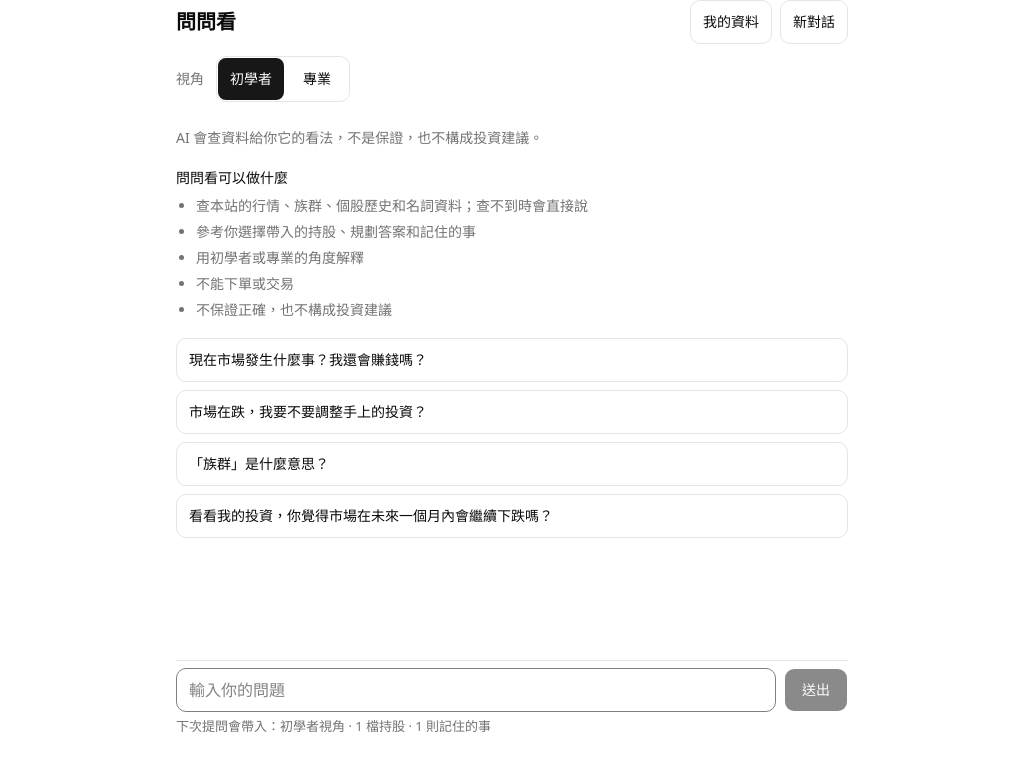
my-data sheet › labels the switch, every editor field and the close button
What coordinates should you click on to do the following:
click the button "我的資料"
I would click on:
 (731, 22)
Its box is x1=690 y1=0 x2=772 y2=44.
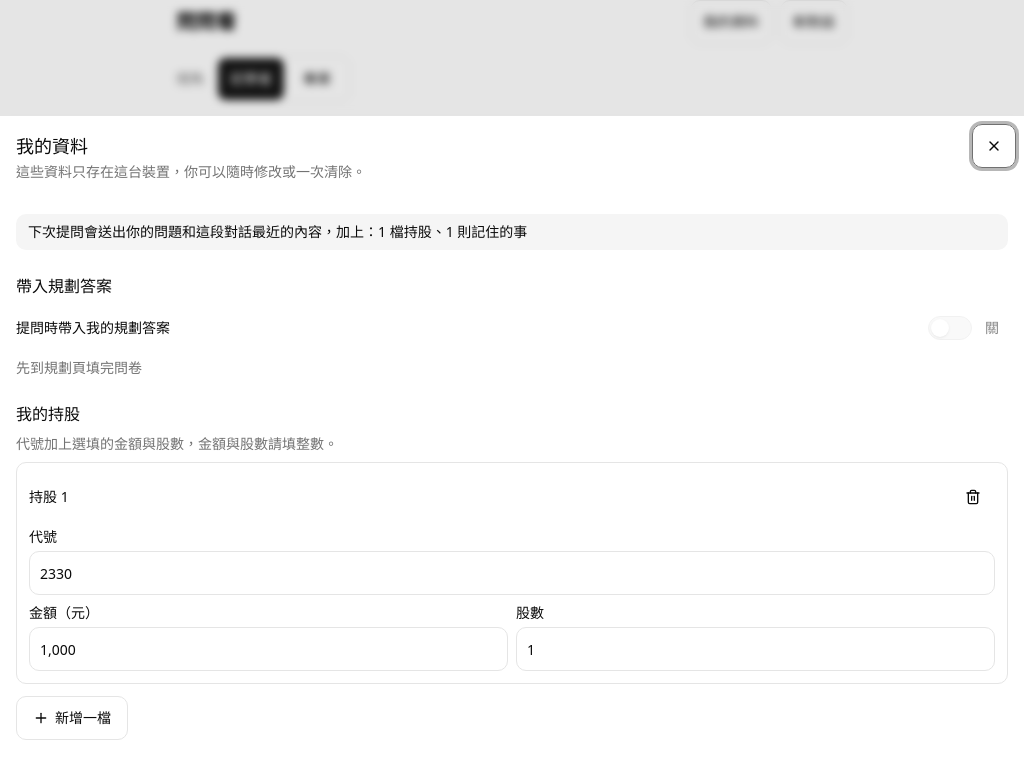
Expected: the switch named "提問時帶入我的規劃答案" is shown, x1=924 y1=306 x2=1008 y2=350
Expected: the field labelled "代號" is shown, x1=29 y1=551 x2=995 y2=595
Expected: the field labelled "金額（元）" is shown, x1=29 y1=627 x2=508 y2=671
